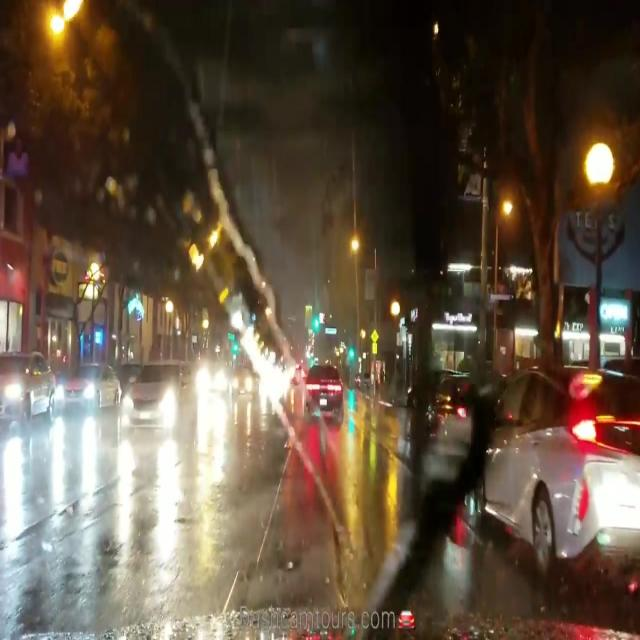Car: (472, 371, 639, 587), (120, 353, 190, 439), (0, 346, 56, 434), (64, 363, 121, 417), (301, 359, 344, 417)
